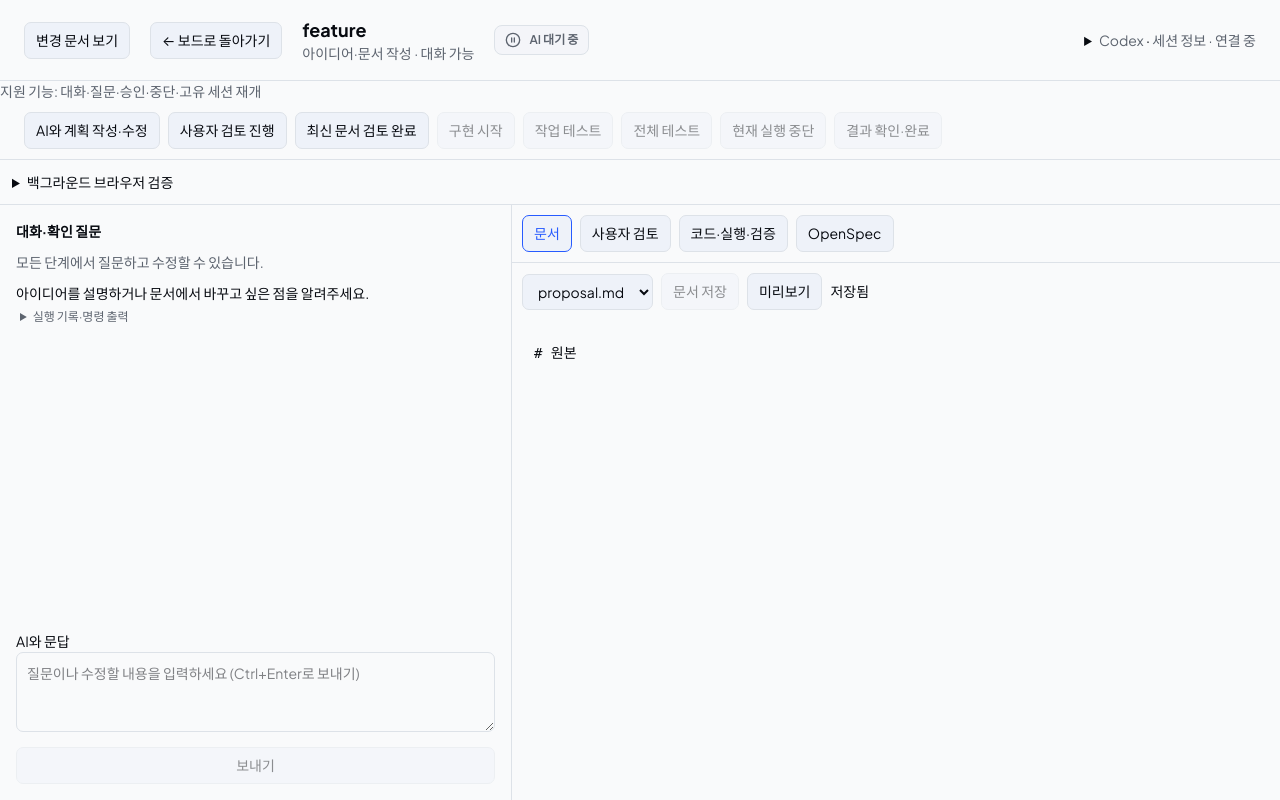
Test case: 미저장 문서가 있으면 이동을 취소할 수 있고 AI 요청을 차단한다
Replace the text in the text box named "문서 내용" with "# 보존할 초안" at (896, 560), box [512,320,1279,799]
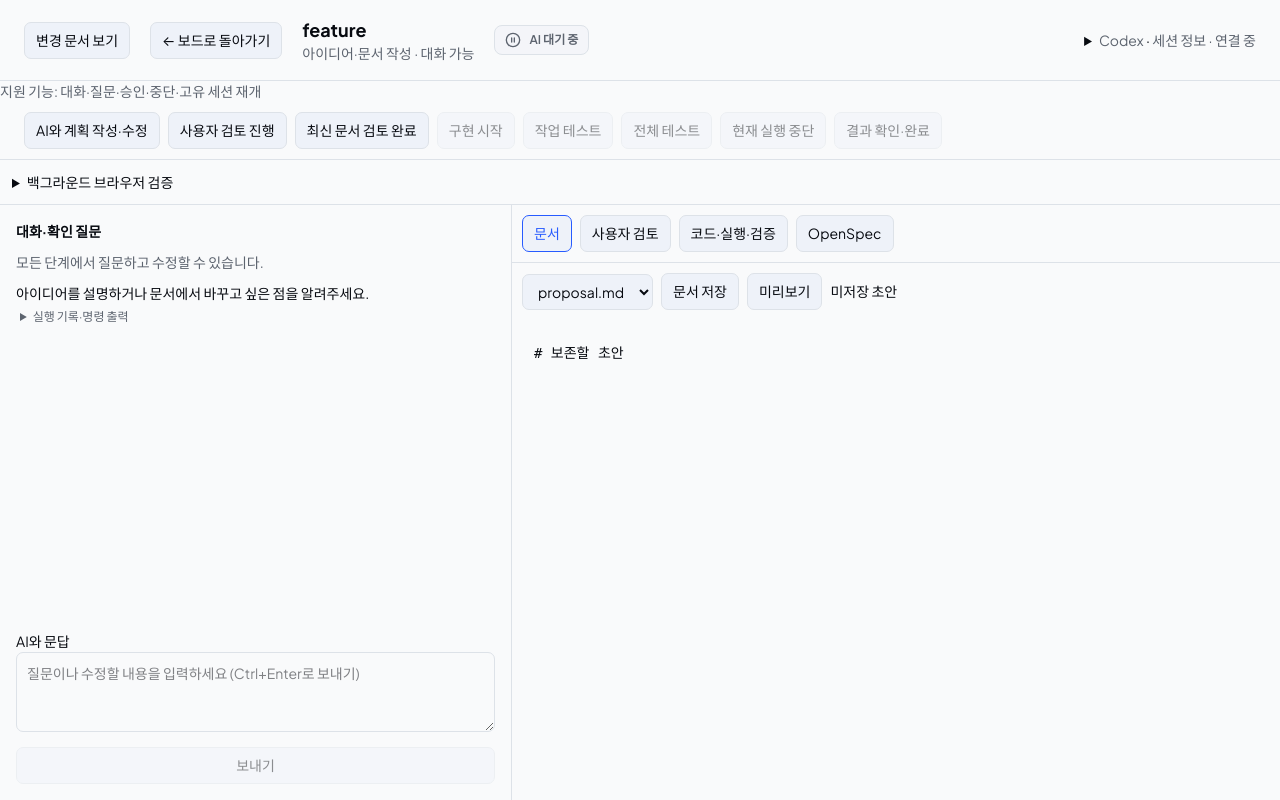
Click the button "← 보드로 돌아가기" at (216, 40), box [150,22,282,58]
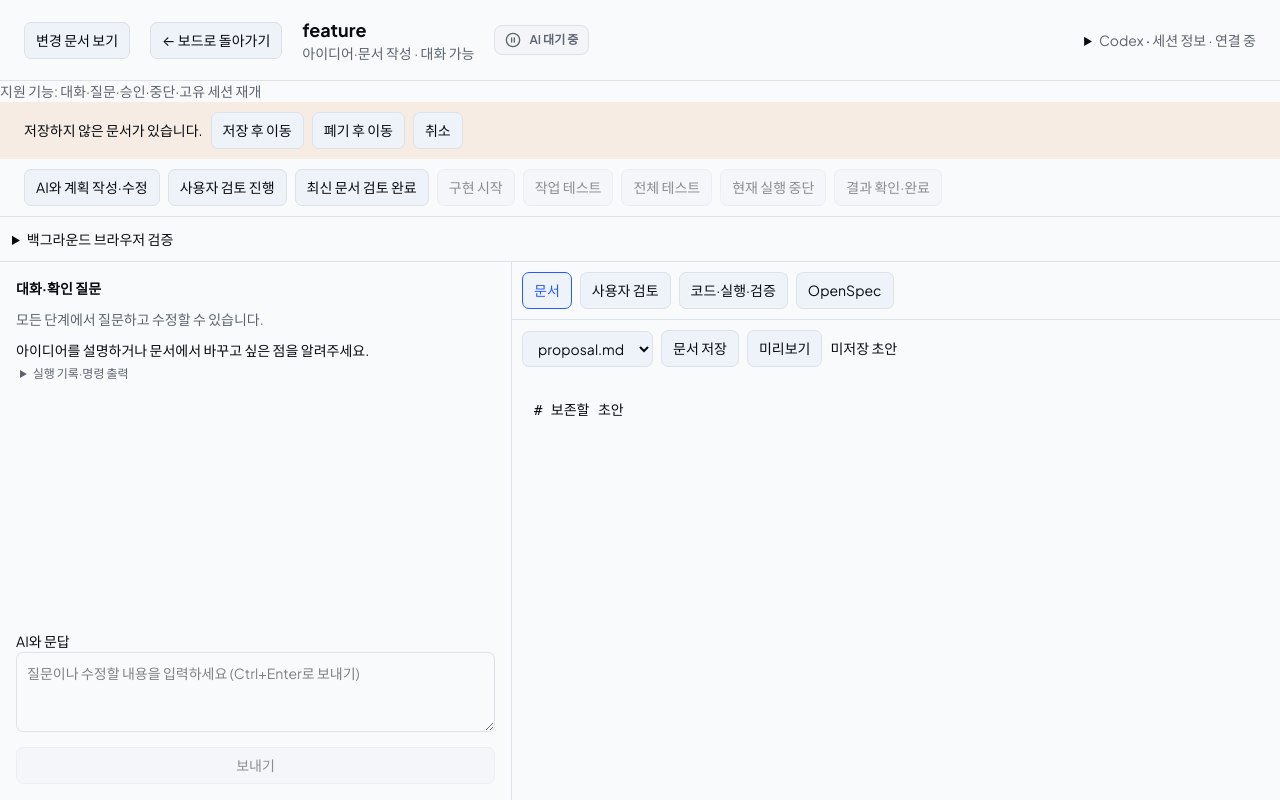
Click the button "취소" at (438, 130), box [413,112,463,149]
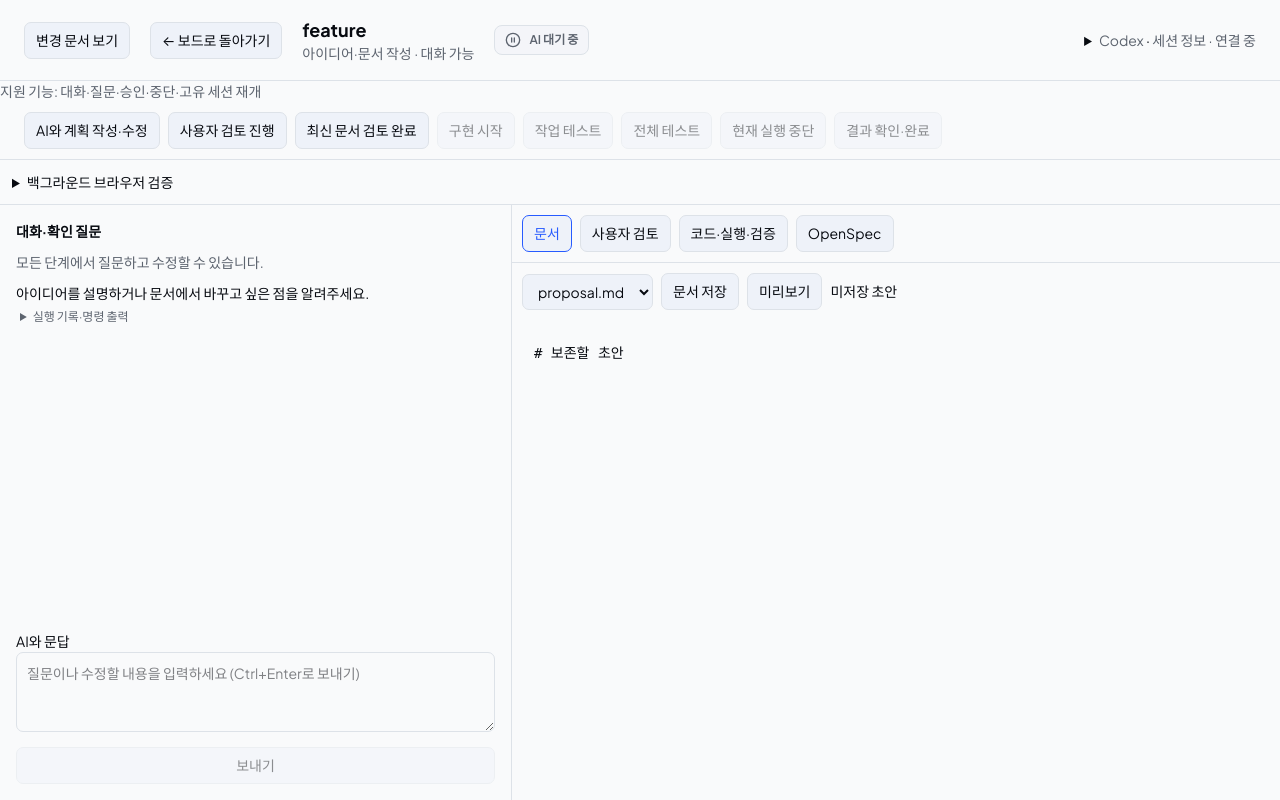
Type "수정해 줘" into the text box labelled "AI와 문답" at (256, 692), box [16,652,495,732]
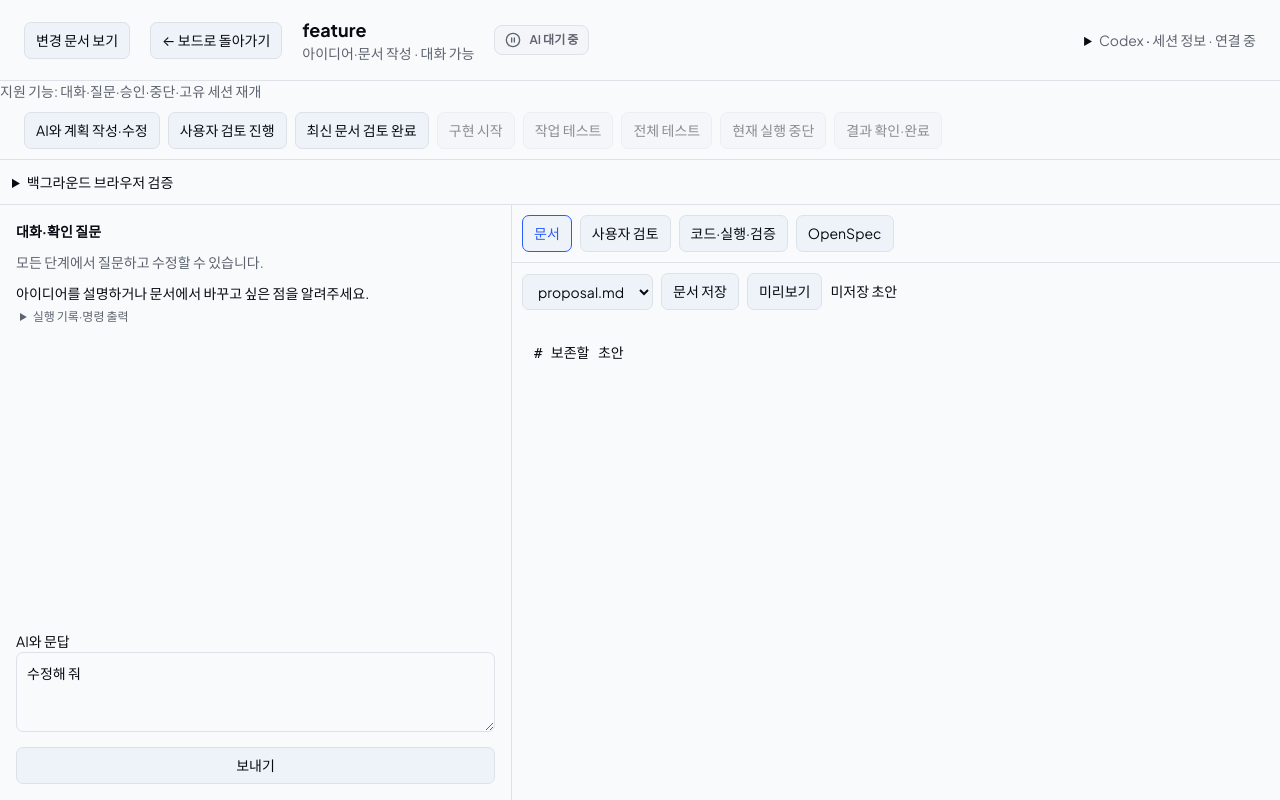
Click the button "보내기" at (256, 766), box [16,747,495,784]
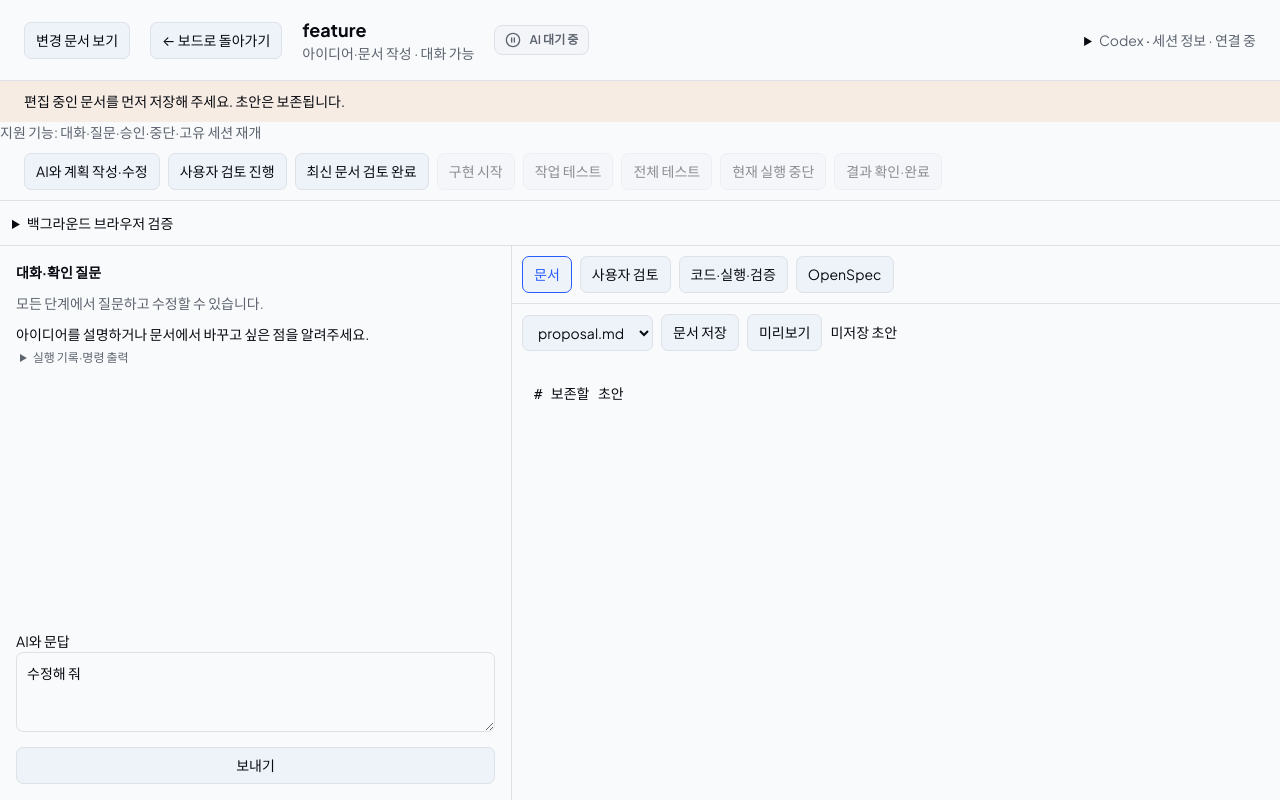
Check: the message "편집 중인 문서를 먼저 저장해 주세요. 초안은 보존됩니다." is shown, box [0,81,1279,122]
